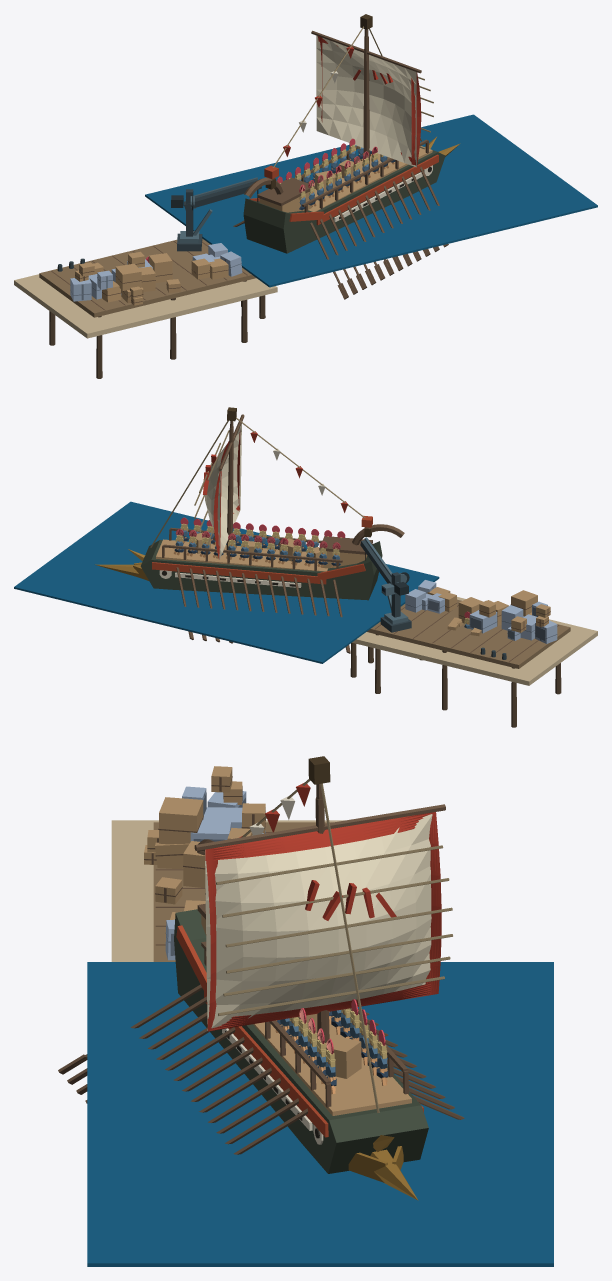
File: oldHarbor.glb
3 renders of one model, top to bottom at view 1: azimuth 30°, elevation 25°; view 2: azimuth 150°, elevation 25°; view 3: azimuth 270°, elevation 25°, orthographic. The views are drawn at different scales.
Parts seen in each view (by area): view 1: harbor-water, sail, n38, hull-low, pier-deck, n271, n67, n323, n335, mast, crane-boom, n425 (+1 smaller); view 2: harbor-water, hull-low, pier-deck, n38, sail, n271, n43, mast, n273, n47, n323, n425; view 3: harbor-water, sail, hull-low, n38, n271, n337, pier-deck, n339, n425, n333, n329, n67 (+15 smaller).
Boxes of the visible parts, left/top/right/bottom form: harbor-water: left=145, top=114, right=597, bottom=287; sail: left=316, top=35, right=416, bottom=167; n38: left=14, top=274, right=277, bottom=338; hull-low: left=243, top=150, right=445, bottom=253; pier-deck: left=39, top=238, right=256, bottom=317; n271: left=308, top=146, right=432, bottom=211; n67: left=316, top=154, right=438, bottom=225; n323: left=257, top=177, right=314, bottom=206; n335: left=411, top=72, right=421, bottom=166; mast: left=363, top=36, right=369, bottom=169; crane-boom: left=184, top=180, right=261, bottom=210; n425: left=115, top=263, right=141, bottom=290; harbor-water: left=14, top=501, right=439, bottom=663; hull-low: left=140, top=540, right=382, bottom=600; pier-deck: left=367, top=599, right=570, bottom=668; n38: left=352, top=597, right=597, bottom=685; sail: left=205, top=423, right=241, bottom=559; n271: left=156, top=539, right=327, bottom=571; n43: left=152, top=562, right=326, bottom=584; mast: left=226, top=428, right=233, bottom=553; n273: left=163, top=544, right=342, bottom=562; n47: left=175, top=572, right=301, bottom=587; n323: left=319, top=536, right=372, bottom=554; n425: left=511, top=590, right=537, bottom=616; harbor-water: left=87, top=962, right=553, bottom=1266; sail: left=205, top=814, right=432, bottom=1030; hull-low: left=174, top=909, right=428, bottom=1173; n38: left=111, top=820, right=344, bottom=961; n271: left=253, top=1016, right=411, bottom=1115; n337: left=205, top=812, right=431, bottom=860; pier-deck: left=153, top=822, right=332, bottom=961; n339: left=207, top=983, right=430, bottom=1031; n425: left=159, top=797, right=203, bottom=844; n333: left=425, top=812, right=441, bottom=995; n329: left=194, top=804, right=445, bottom=850; n67: left=204, top=991, right=328, bottom=1137.
Size of the model in its own units: 22.25 by 10.87 by 10.1.
